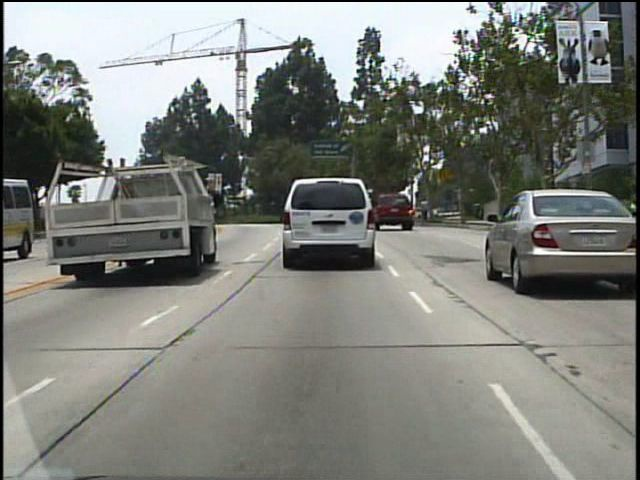person: (419, 194, 432, 226)
